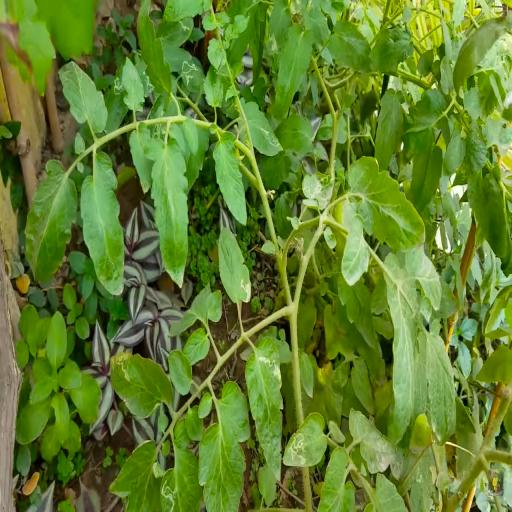Healthy: (347, 155, 426, 252), (25, 158, 78, 288), (199, 380, 251, 512), (144, 137, 189, 289), (80, 151, 124, 296), (384, 252, 416, 444), (272, 24, 315, 119), (136, 0, 172, 110), (58, 58, 108, 134), (212, 130, 248, 226), (410, 127, 443, 213), (373, 88, 405, 173), (406, 244, 442, 310), (328, 20, 372, 72), (273, 112, 314, 156), (441, 122, 466, 178), (122, 56, 146, 114), (167, 349, 193, 396), (184, 328, 210, 364), (183, 115, 199, 156)
Leaf_Miner: (246, 335, 284, 482), (109, 351, 173, 419), (348, 406, 398, 474), (337, 274, 377, 352), (159, 445, 203, 512), (237, 96, 284, 158), (218, 226, 251, 304), (283, 412, 327, 468), (103, 76, 129, 133), (265, 0, 291, 55), (302, 170, 333, 208), (178, 57, 205, 94), (140, 63, 155, 97)
